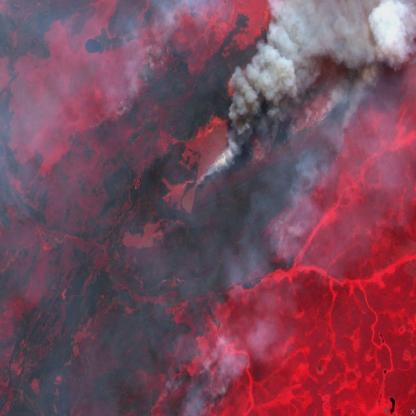fire: (64, 0, 386, 283), (142, 356, 232, 416)
